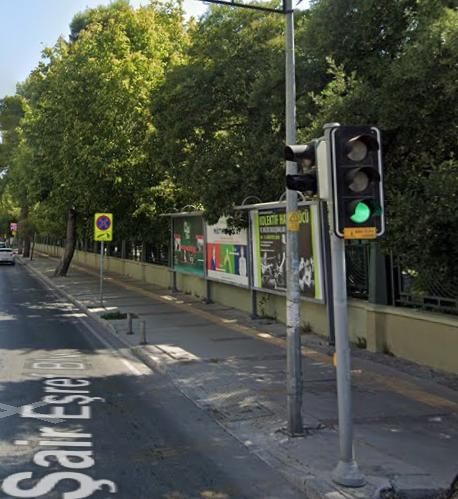greenlight: (340, 131, 386, 234)
